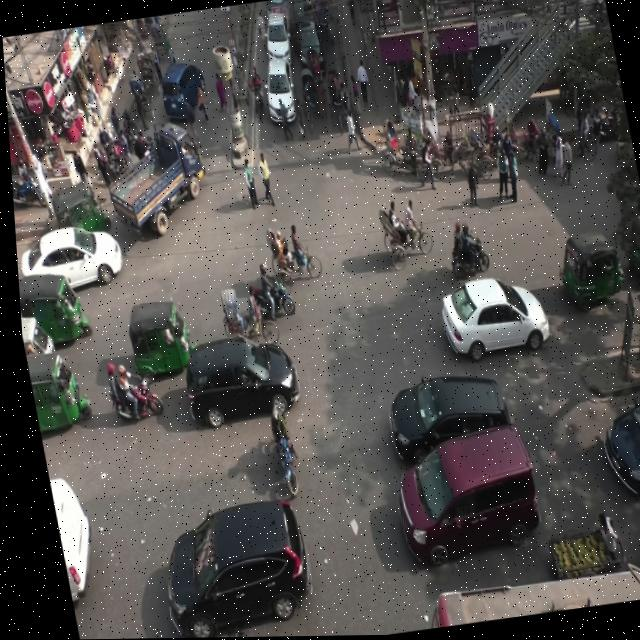cng: (101, 287, 197, 384), (545, 214, 625, 314), (14, 262, 97, 346), (20, 343, 93, 427), (41, 180, 114, 240)
rikshaw: (362, 173, 437, 282), (257, 212, 326, 294), (215, 273, 270, 357), (370, 112, 427, 191), (418, 111, 470, 191), (461, 123, 514, 183), (322, 62, 356, 141), (127, 44, 166, 111), (125, 73, 155, 126), (296, 71, 322, 125)
